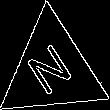N_SE: (24, 38, 80, 102)
